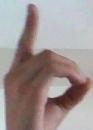D1: (0, 1, 93, 130)
